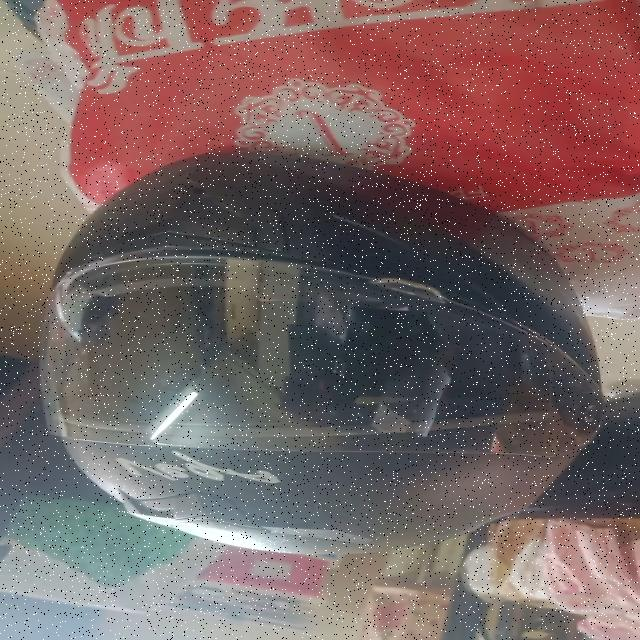Helmet: (39, 151, 604, 560)
